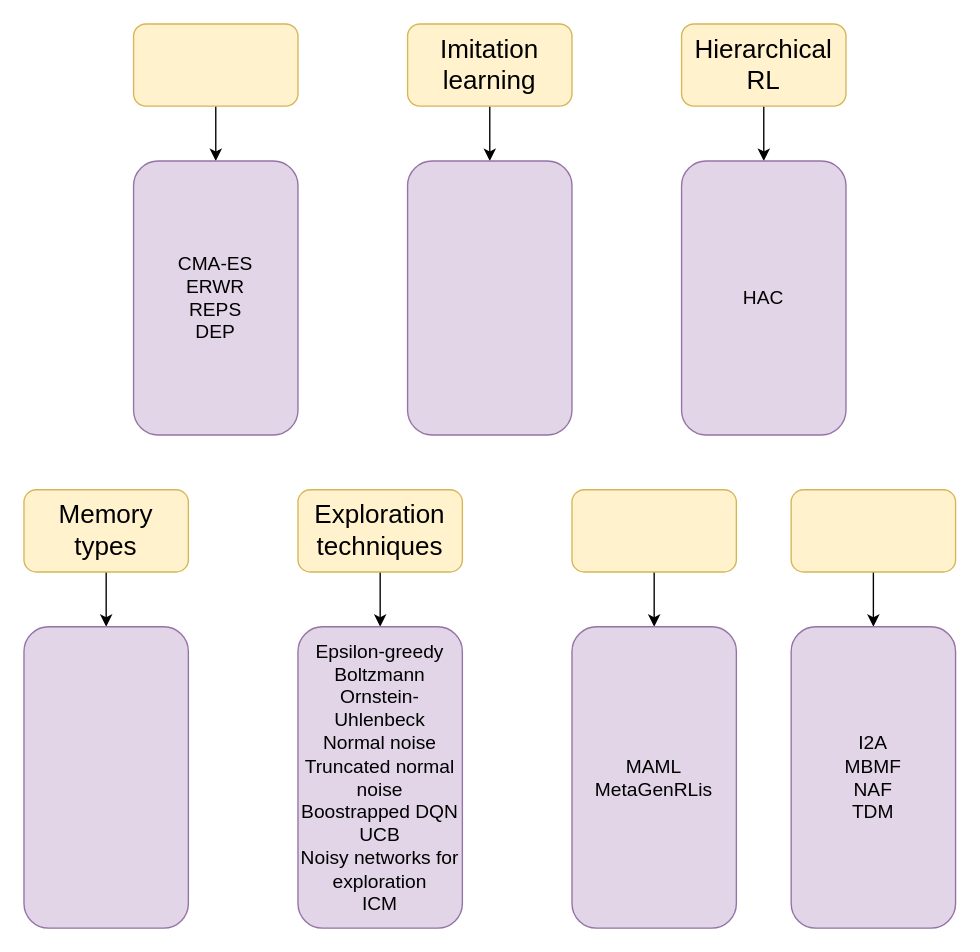
The diagram is 980 pixels wide and 952 high, and some of its shapes have lost their labels. Each missing label, with the centre of its shape:
BC Dagger GAIL AIRL CIL SQIL: point (489, 297)
General agents: point (215, 64)
HER PER: point (105, 776)
Meta learning: point (653, 530)
Model Free Model Based: point (873, 530)
